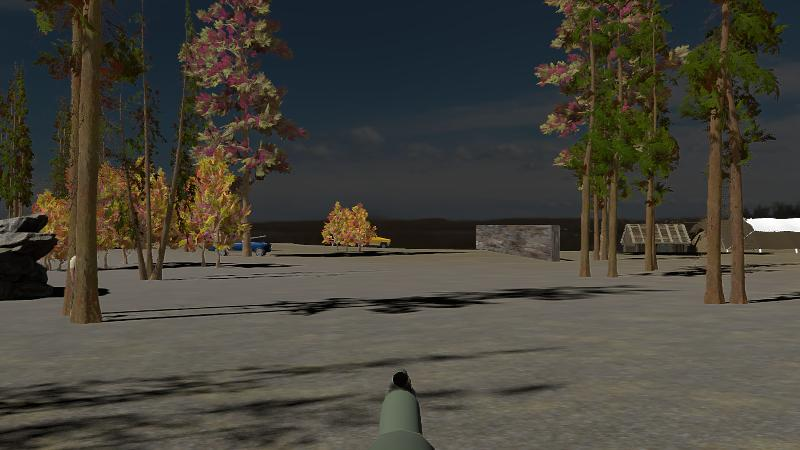House: (620, 222, 695, 256)
